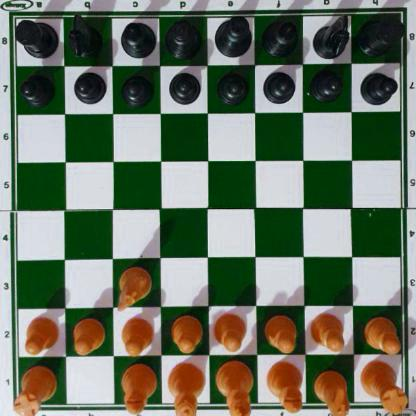black-bishop: (260, 16, 300, 55), (118, 19, 157, 56)
black-king: (212, 16, 252, 57)
black-knight: (313, 11, 347, 57), (68, 12, 100, 56)
black-pawn: (359, 69, 396, 105), (262, 68, 295, 103), (310, 66, 342, 101), (168, 68, 199, 104), (73, 69, 104, 104), (20, 72, 53, 104), (121, 71, 152, 105), (217, 70, 247, 104)
black-queen: (164, 17, 202, 56)
black-rook: (360, 10, 402, 55), (12, 16, 58, 57)
white-bishop: (121, 364, 157, 416), (265, 361, 302, 411)
white-king: (215, 360, 252, 414)
white-knight: (313, 367, 349, 414), (115, 264, 150, 308)
white-pawn: (309, 311, 346, 351), (23, 314, 59, 354), (212, 311, 247, 351), (364, 314, 400, 352), (169, 313, 202, 351), (264, 313, 297, 351), (120, 317, 153, 355), (71, 317, 104, 353)
white-queen: (166, 361, 203, 413)
white-rook: (362, 358, 405, 414), (15, 361, 55, 416)
